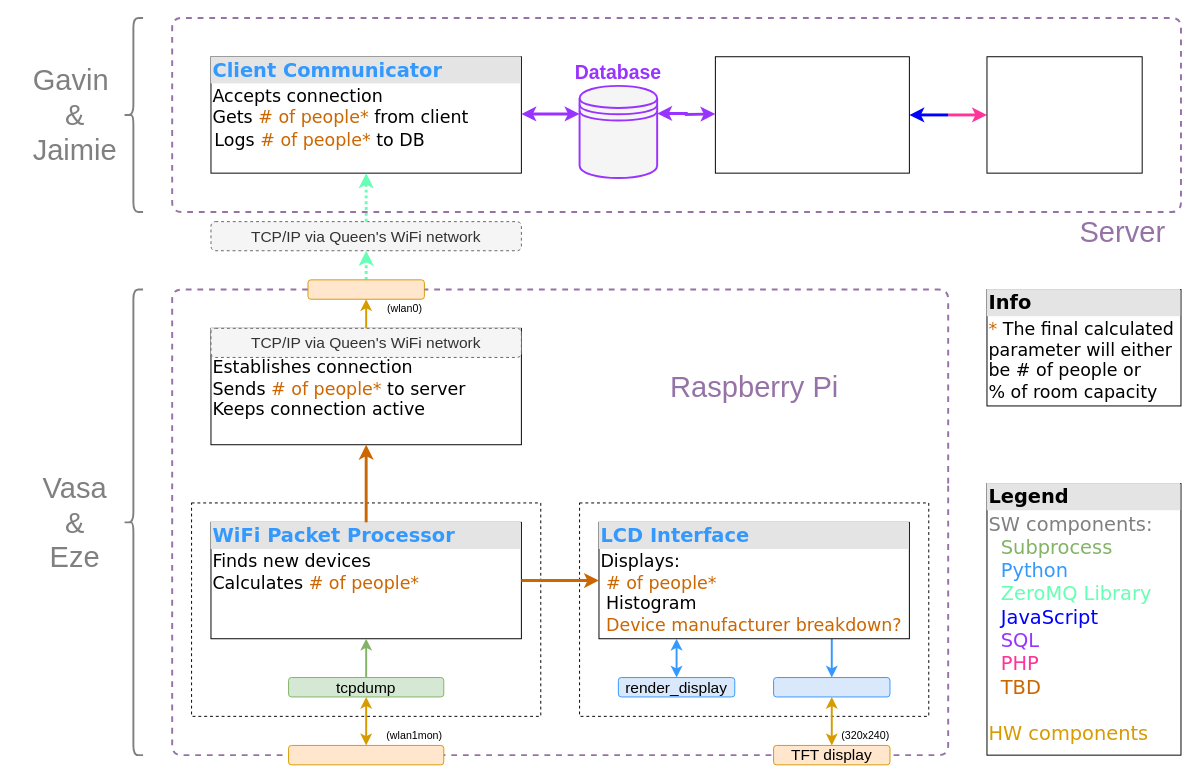
This 1199x782 diagram has some shape labels left out. The shapes that lost their labels are listed below. From the top down, each one's centre as x and y in pixels, then its label:
At pixel 811 114: "Data interface Processes DB data to build up histogram (the backend)".
At pixel 1064 114: "Web interface Presents info to user in a dashboard (the frontend)".
At pixel 365 289: "Built-in WiFi".
At pixel 831 687: "SPI I/O script".
At pixel 366 754: "USB WiFi dongle".
